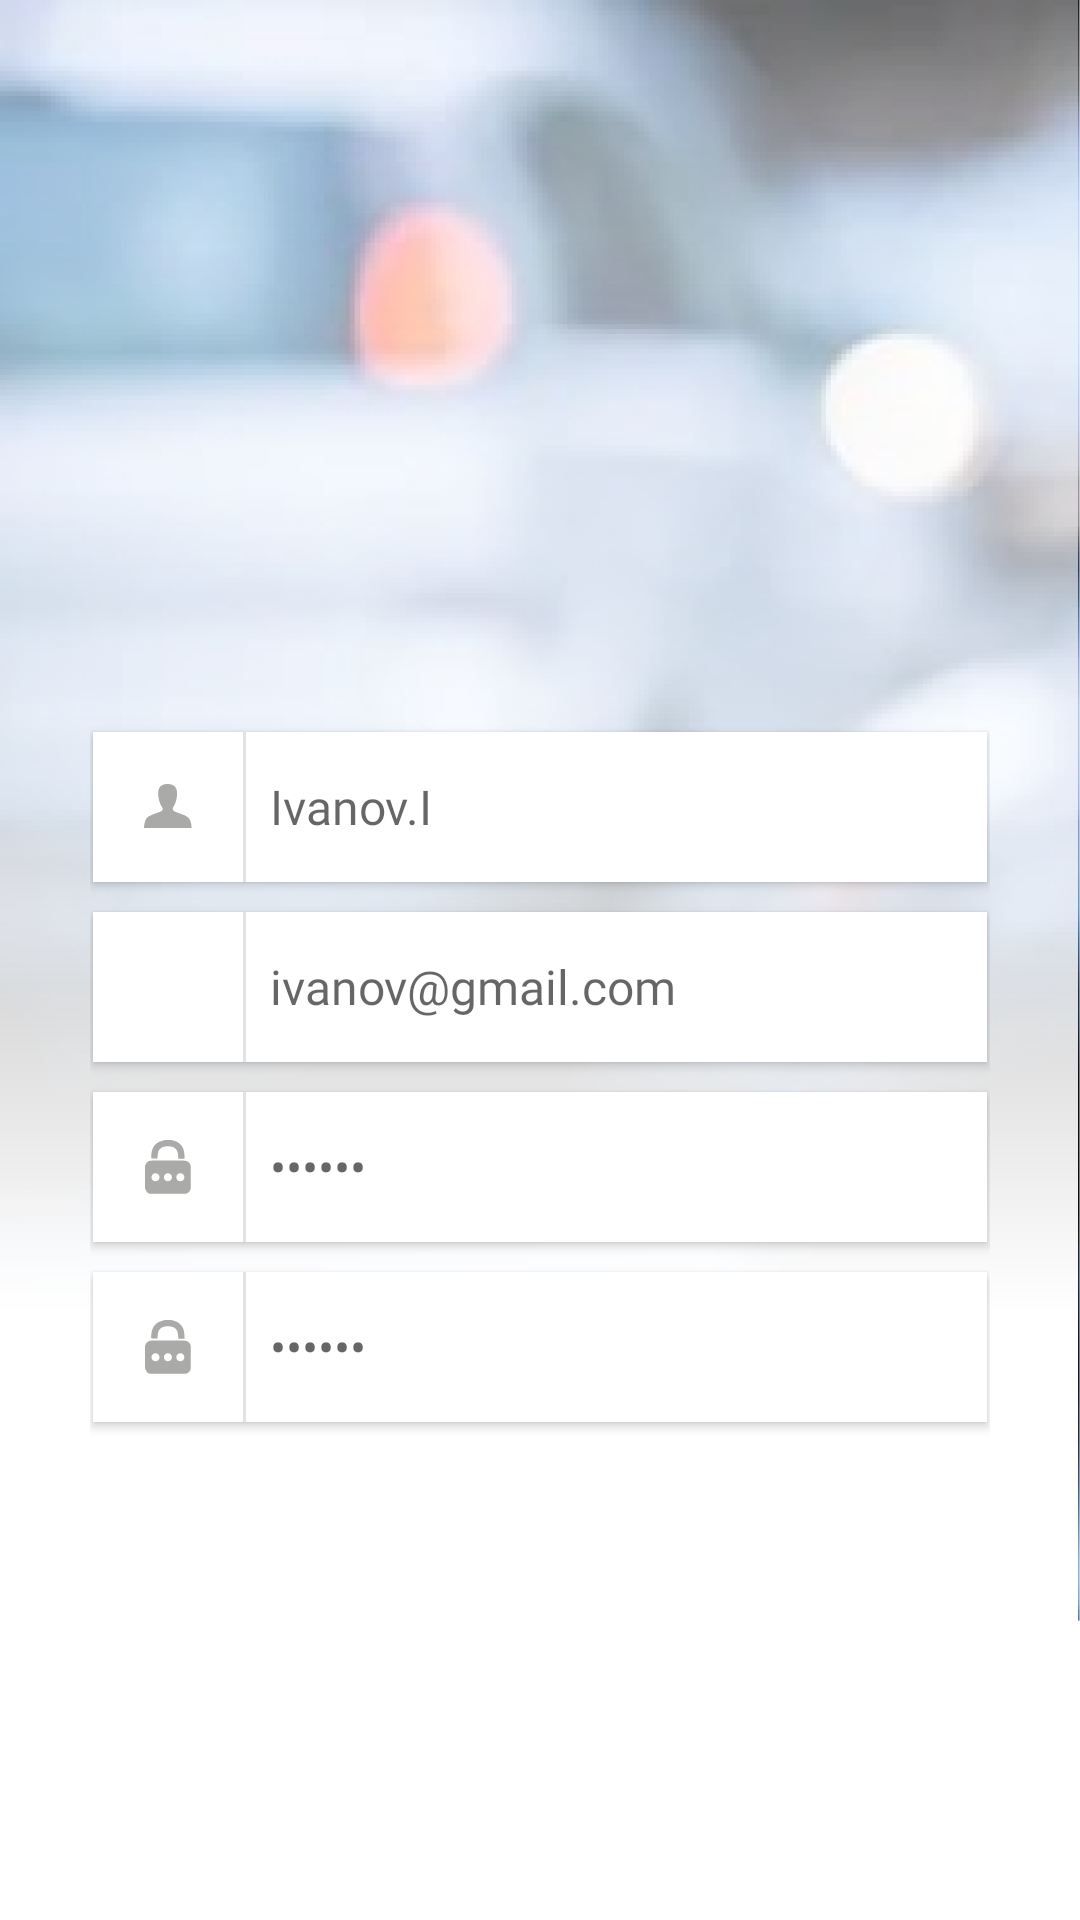

Icons on this 1080 x 1920 Android screen, each with the point to tap as (x,y):
login: (168,806)
